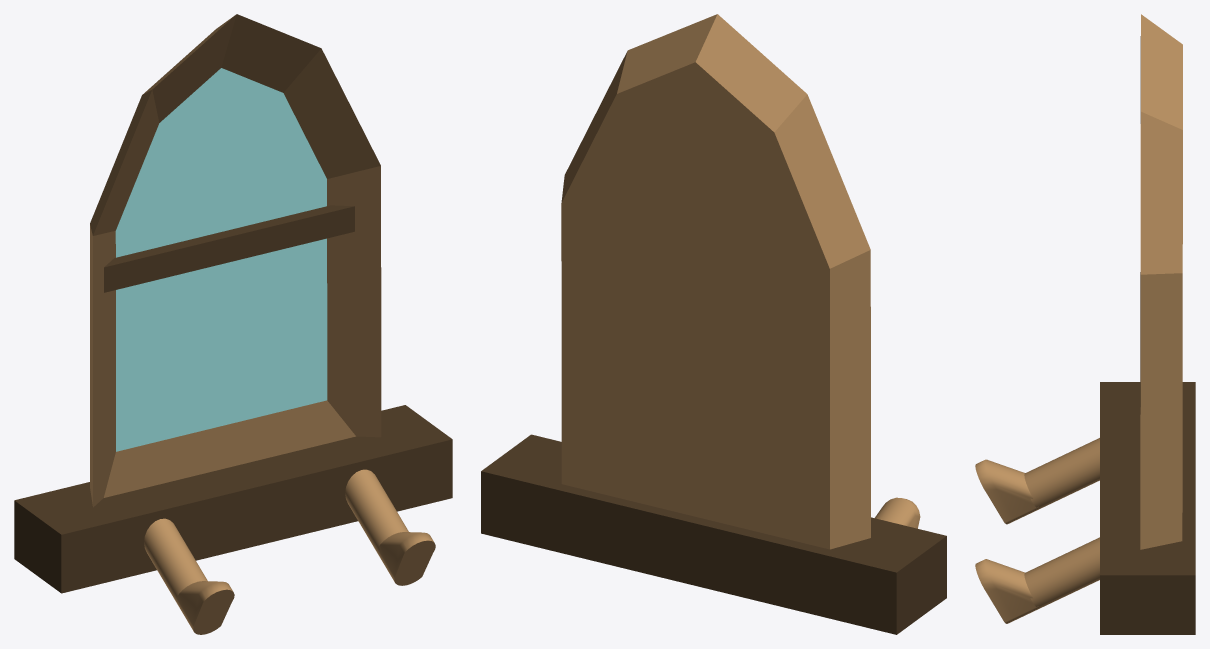
The model's file is UnityModel_Window.fbx.
The picture shows the model from 3 angles, left to right: view 1: azimuth 30°, elevation 25°; view 2: azimuth 150°, elevation 25°; view 3: azimuth 270°, elevation 25°; orthographic projection. The views are drawn at different scales.
Visible parts, largest first — view 1: pasted__polySurface13; view 2: pasted__polySurface13; view 3: pasted__polySurface13.
Part boxes in pixels (x1=…): pasted__polySurface13: x1=14, y1=14, x2=452, y2=634; pasted__polySurface13: x1=481, y1=14, x2=946, y2=634; pasted__polySurface13: x1=975, y1=14, x2=1195, y2=634.
Bounding box in the file's own units: 1.36 × 1.82 × 0.6533.
